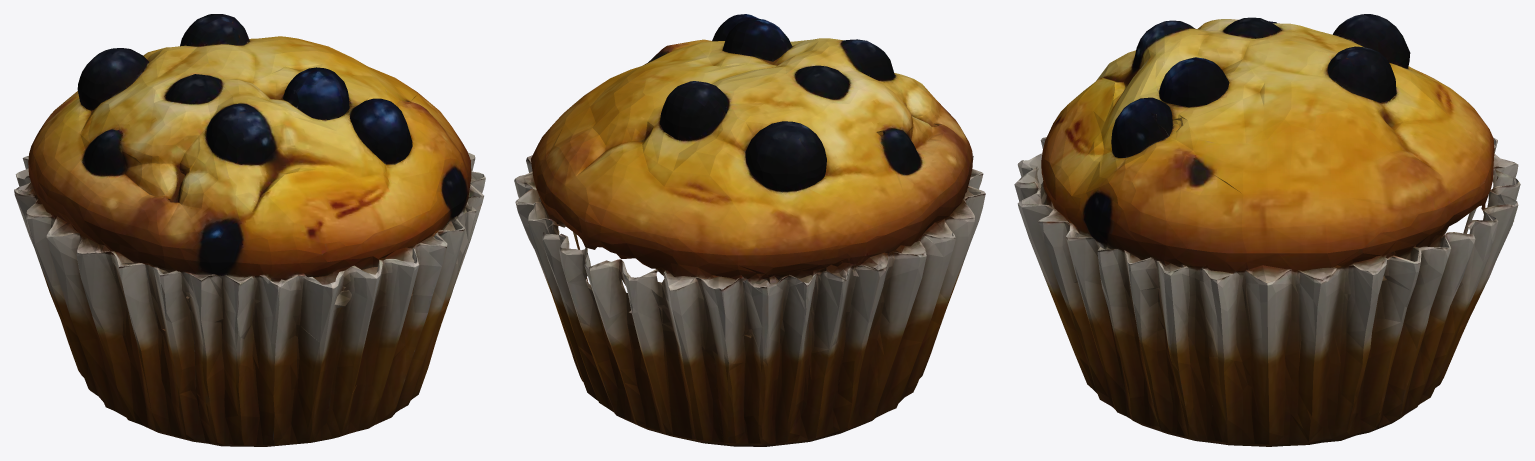
3 renders of one model, left to right at view 1: azimuth 30°, elevation 25°; view 2: azimuth 150°, elevation 25°; view 3: azimuth 270°, elevation 25°, orthographic. The views are drawn at different scales.
Visible parts, largest first — view 1: geometry_0; view 2: geometry_0; view 3: geometry_0.
Part boxes in pixels (bbox=[...]): geometry_0: bbox=[14, 14, 485, 446]; geometry_0: bbox=[514, 14, 985, 446]; geometry_0: bbox=[1014, 14, 1520, 446].
Size of the model in its own units: 0.9538 by 0.7276 by 0.9985.
1 material, 1 textured.
